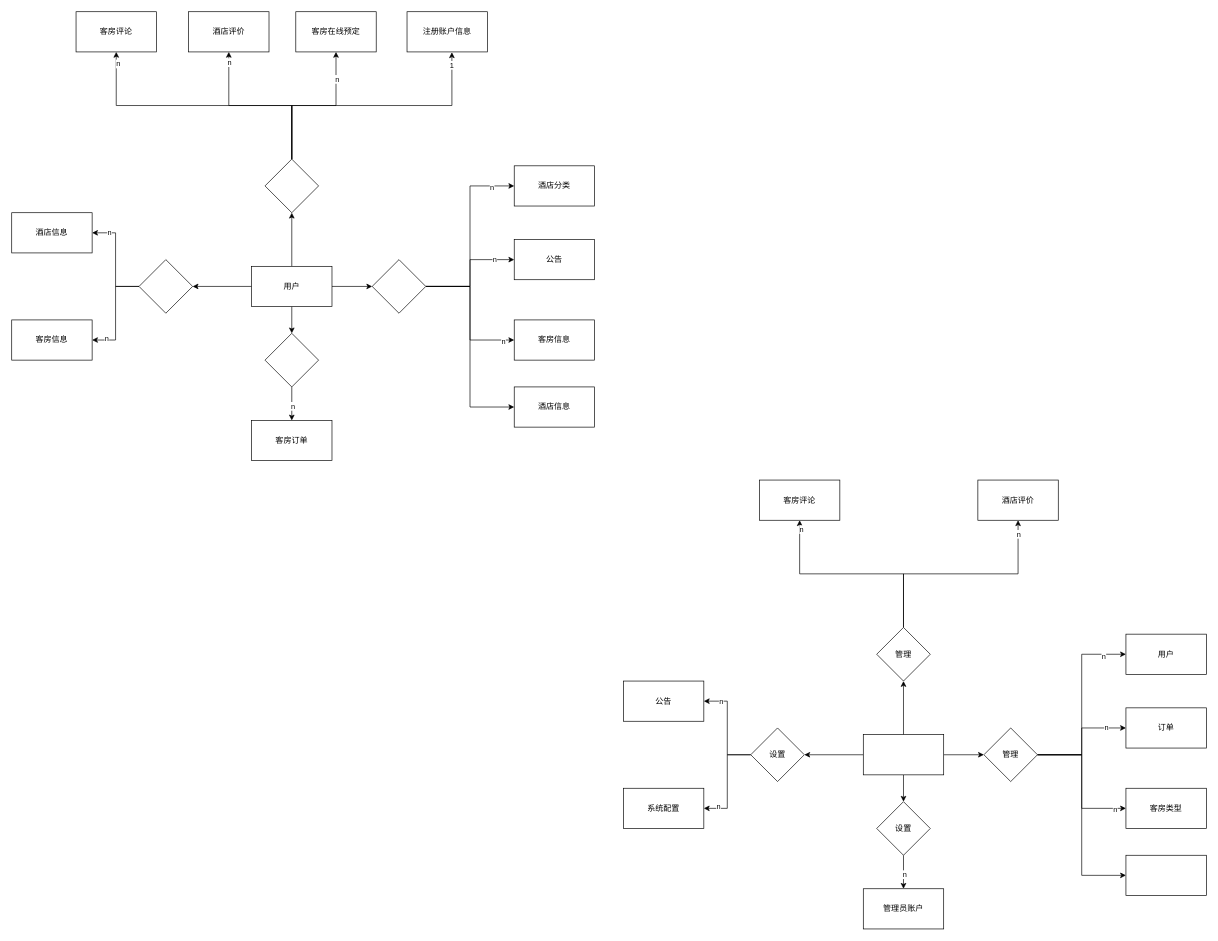
Some shapes in this 1218 by 941 pixel diagram are drawn without their labels. The shapes that lost their labels are listed below. From the top down, each one's box as (x1, y1, x2, y2) in pixels, then its label:
(264, 158, 319, 213): 创建
(138, 259, 193, 313): 收藏
(372, 259, 426, 313): 查看
(264, 333, 319, 387): 拥有
(863, 734, 944, 775): 管理员
(1125, 855, 1206, 895): 结算
